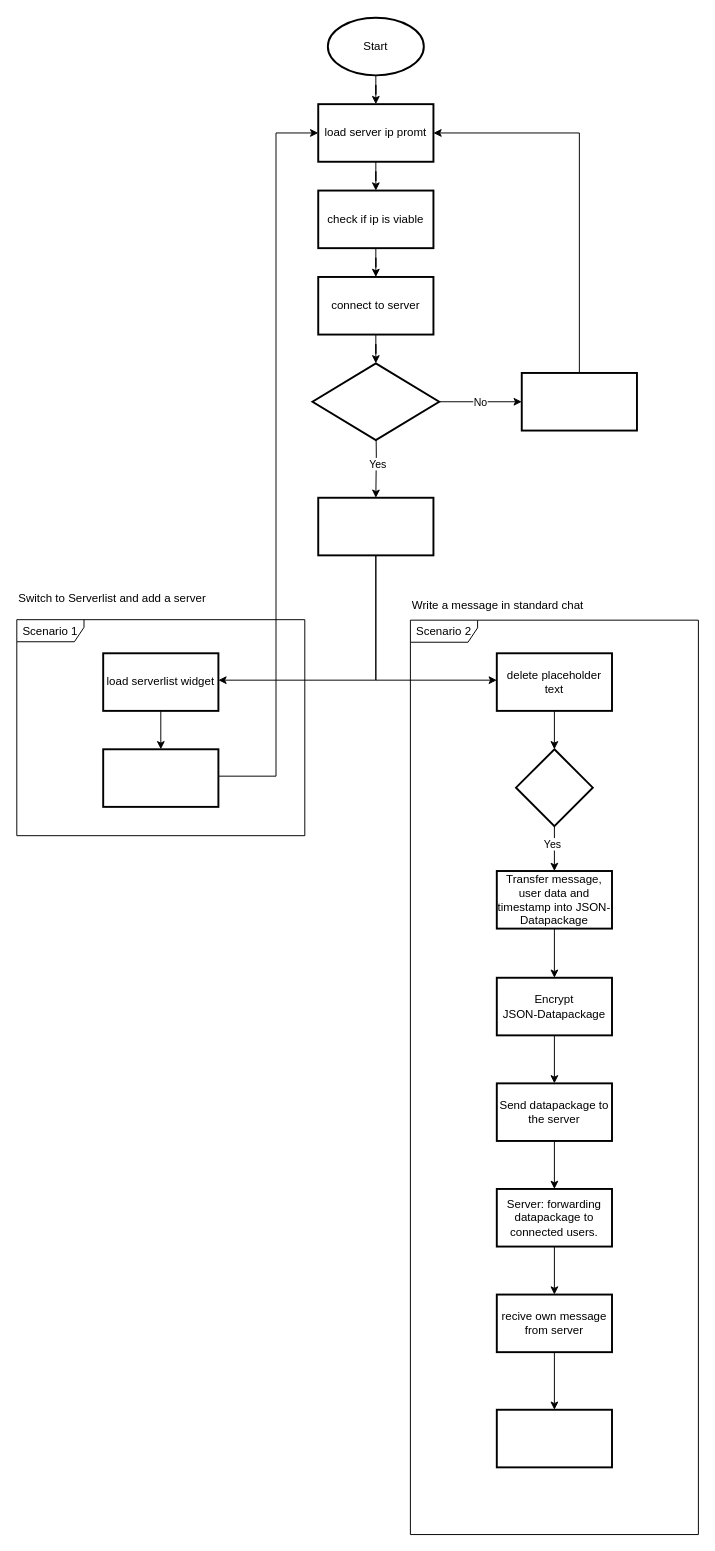
Some shapes in this 715 by 1551 pixel diagram are drawn without their labels. Each missing label, with the box of its shape:
express error message: (520, 372, 637, 431)
load widgets: (317, 496, 434, 556)
pressed send?: (515, 748, 593, 827)
select "add server" option: (102, 748, 219, 807)
sucessfully connectet to the server?: (311, 362, 440, 441)
Update message log: (495, 1408, 612, 1468)
